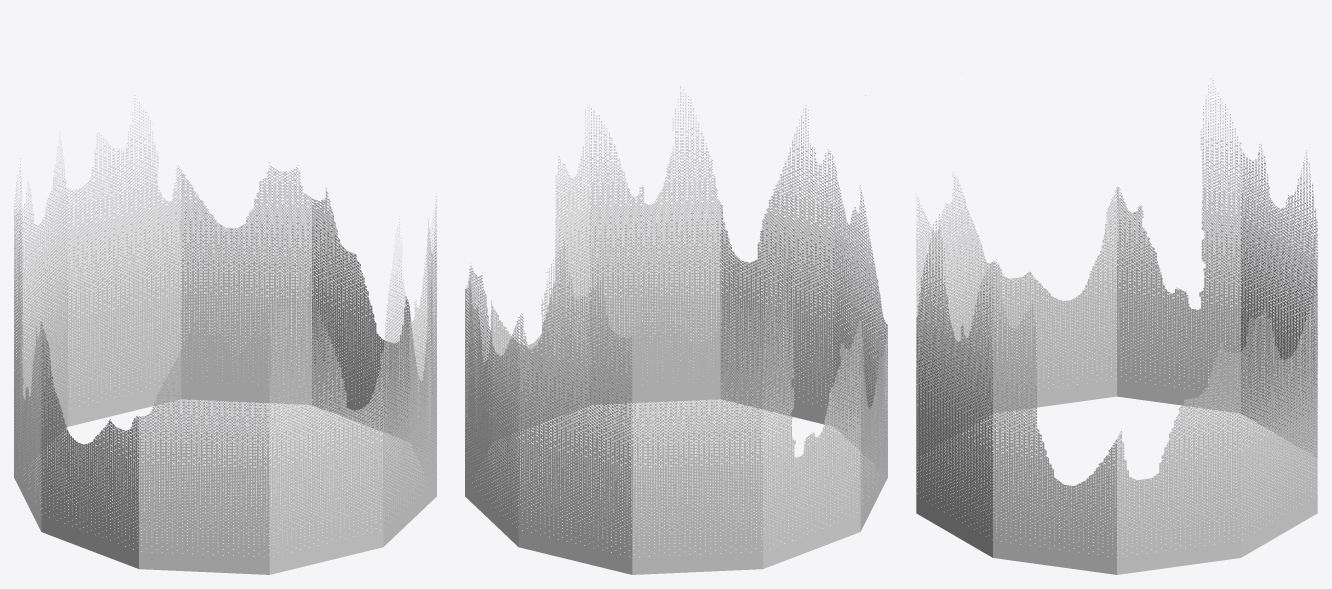
Rendered from backPoint.obj.
3 views of the same model, side by side, from view 1: azimuth 30°, elevation 25°; view 2: azimuth 150°, elevation 25°; view 3: azimuth 270°, elevation 25° (orthographic).
Visible parts, largest first — view 1: 圓柱體; view 2: 圓柱體; view 3: 圓柱體.
Part boxes in pixels (bbox=[...]): 圓柱體: bbox=[14, 95, 436, 574]; 圓柱體: bbox=[465, 86, 887, 574]; 圓柱體: bbox=[916, 73, 1317, 574].
Bounding box in the file's own units: 2 × 2 × 1.9.
Materials: 1 (1 with a texture image).
